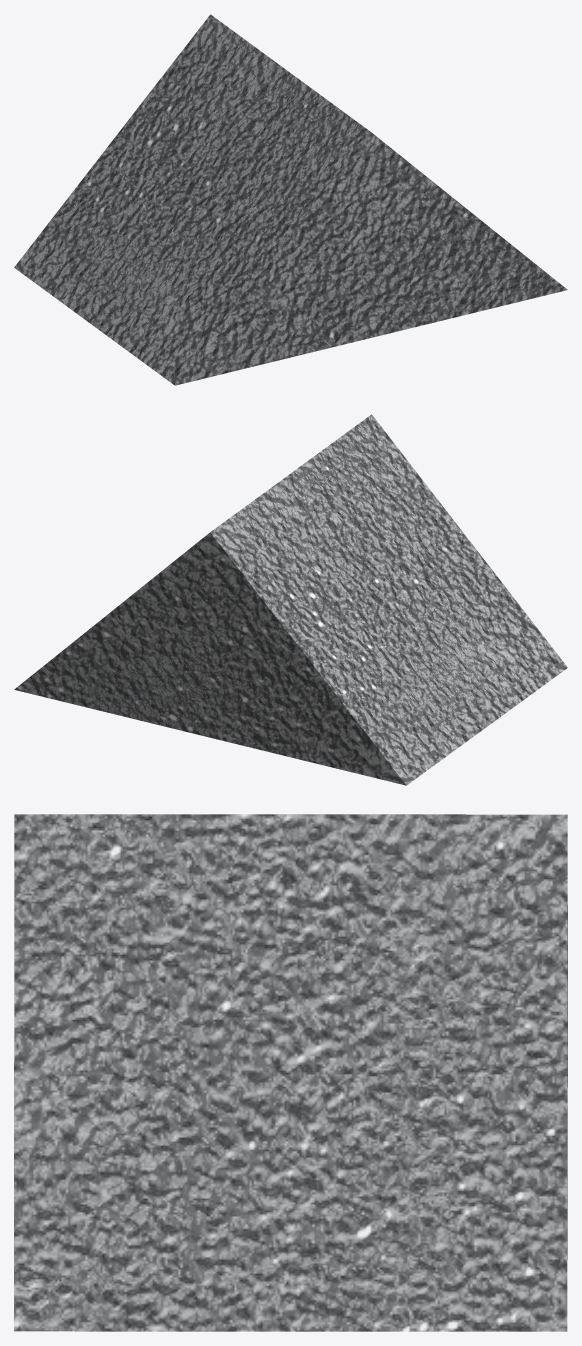
The model's file is traingle.glb.
3 renders of one model, top to bottom at view 1: azimuth 30°, elevation 25°; view 2: azimuth 150°, elevation 25°; view 3: azimuth 270°, elevation 25°, orthographic. The views are drawn at different scales.
Parts seen in each view (by area): view 1: Cube; view 2: Cube; view 3: Cube.
Part boxes in pixels (left/top/right/bottom): Cube: left=14, top=14, right=567, bottom=385; Cube: left=14, top=414, right=567, bottom=785; Cube: left=14, top=814, right=567, bottom=1331.
Bounding box in the file's own units: 0.7036 × 0.3516 × 0.5006.
Materials: 1 (1 with a texture image).
